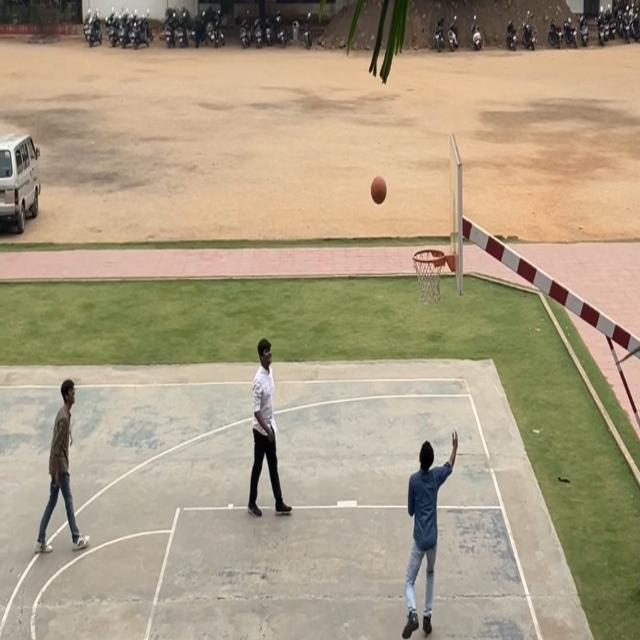basketball: (371, 175, 388, 208)
hoop: (412, 244, 446, 308)
